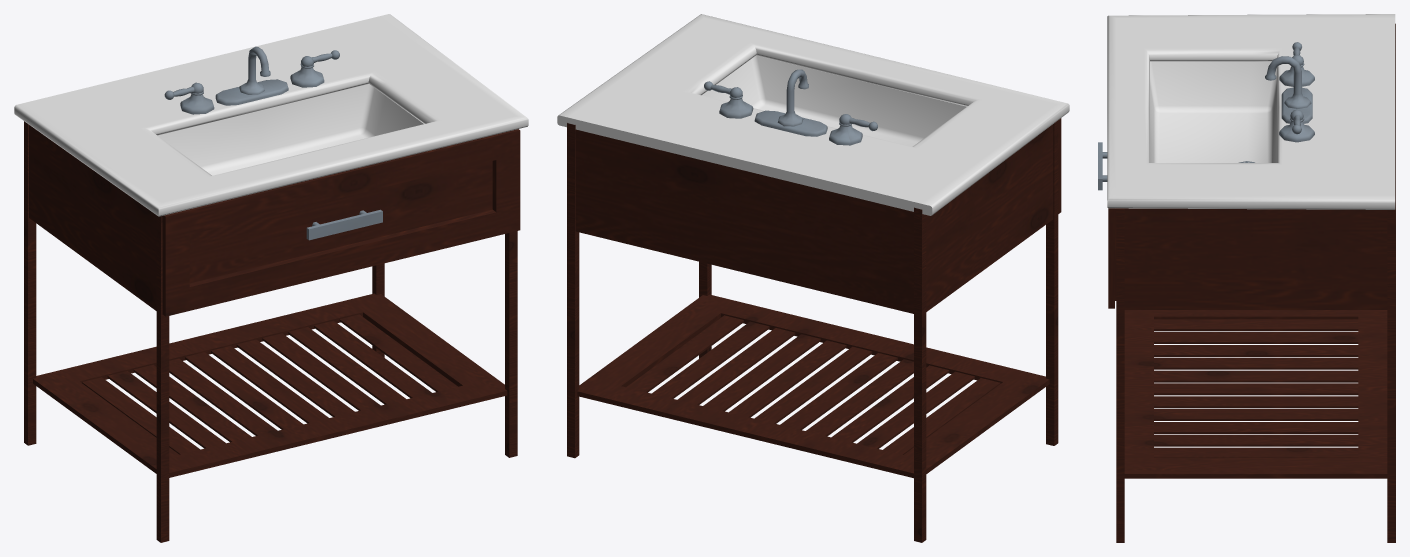
Rendered from Bathroom_And_Misc_4.fbx.
3 views of the same model, side by side, from view 1: azimuth 30°, elevation 25°; view 2: azimuth 150°, elevation 25°; view 3: azimuth 270°, elevation 25° (orthographic). The views are drawn at different scales.
Parts seen in each view (by area): view 1: Cylinder.007; view 2: Cylinder.007; view 3: Cylinder.007.
Boxes of the visible parts, x1,y1,x2,y2 form: Cylinder.007: (14, 14, 528, 542); Cylinder.007: (557, 14, 1069, 542); Cylinder.007: (1098, 14, 1395, 542).
Bounding box in the file's own units: 106 × 105 × 71.14.
